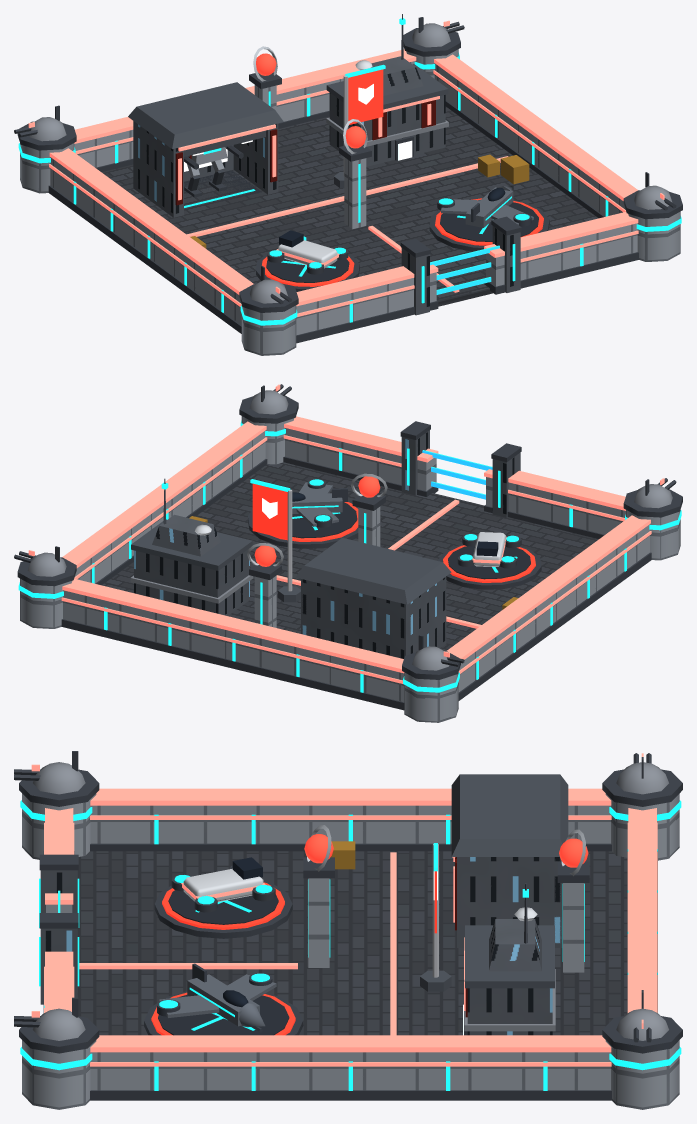
File: military_base_scifi_red.glb
3 views of the same model, one above another, from view 1: azimuth 30°, elevation 25°; view 2: azimuth 150°, elevation 25°; view 3: azimuth 270°, elevation 25° (orthographic). The views are drawn at different scales.
Parts seen in each view (by area): view 1: military_base_scifi_red; view 2: military_base_scifi_red; view 3: military_base_scifi_red.
Boxes of the visible parts, bbox=[...] form: military_base_scifi_red: bbox=[14, 14, 682, 355]; military_base_scifi_red: bbox=[14, 384, 682, 722]; military_base_scifi_red: bbox=[14, 751, 682, 1109].
Bounding box in the file's own units: 1.27 × 0.35 × 1.26.
Materials: 11 (1 with a texture image).
